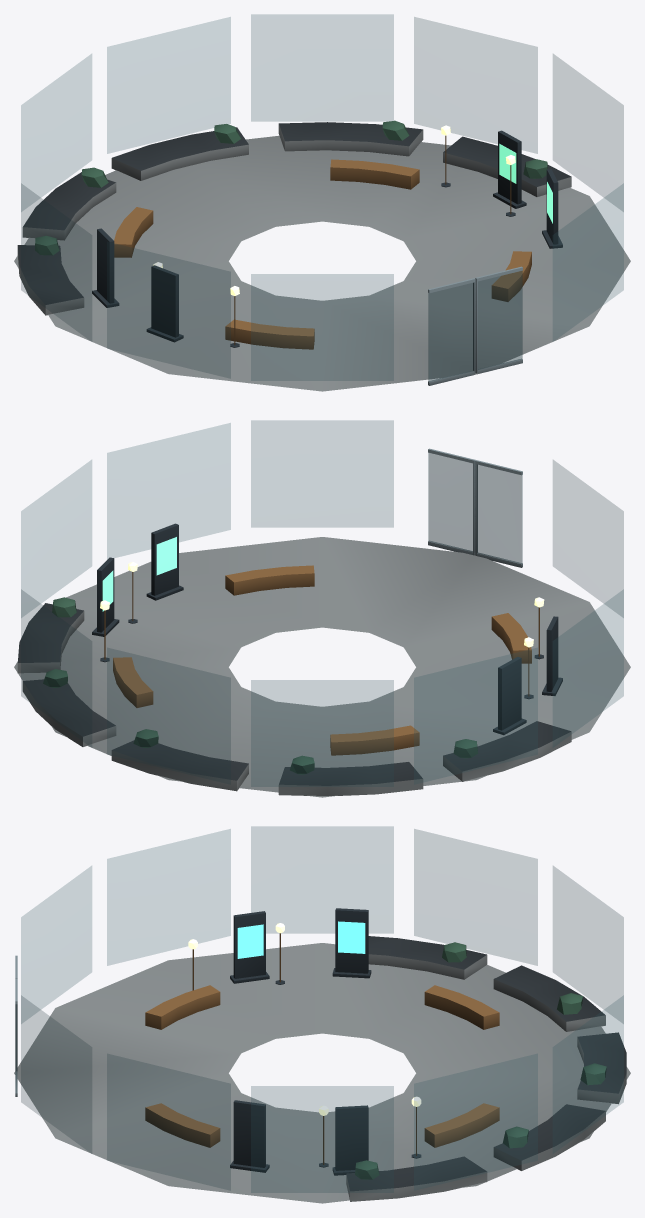
Rendered from lobby-graph.lod2.glb.
The picture shows the model from 3 angles, top to bottom: view 1: azimuth 30°, elevation 25°; view 2: azimuth 150°, elevation 25°; view 3: azimuth 270°, elevation 25°; orthographic projection.
Parts seen in each view (by area): view 1: structure, door_0_l, door_0_r; view 2: structure, door_0_l, door_0_r; view 3: structure.
Boxes of the visible parts, x1,y1,x2,y2 form: structure: [14, 14, 630, 391]; door_0_l: [428, 278, 475, 385]; door_0_r: [475, 266, 522, 374]; structure: [14, 420, 630, 797]; door_0_l: [475, 460, 522, 567]; door_0_r: [428, 448, 475, 555]; structure: [14, 826, 630, 1203].
Size of the model in its own units: 18.1 by 3.82 by 18.1.
